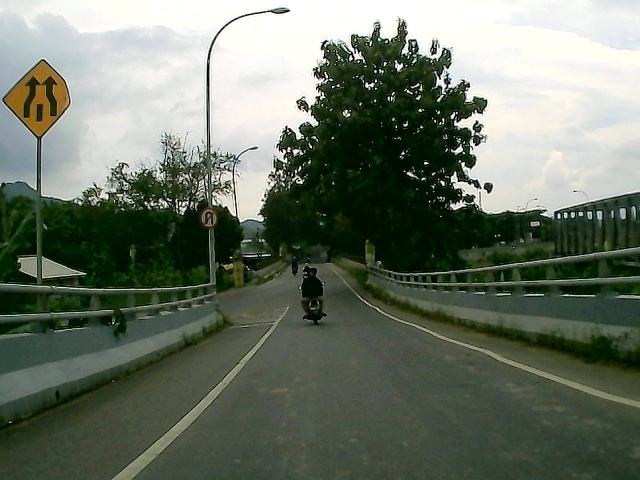Akhir bangunan pemisah satu arah: (1, 57, 79, 139)
Dilarang berbalik arah: (198, 208, 218, 231)
